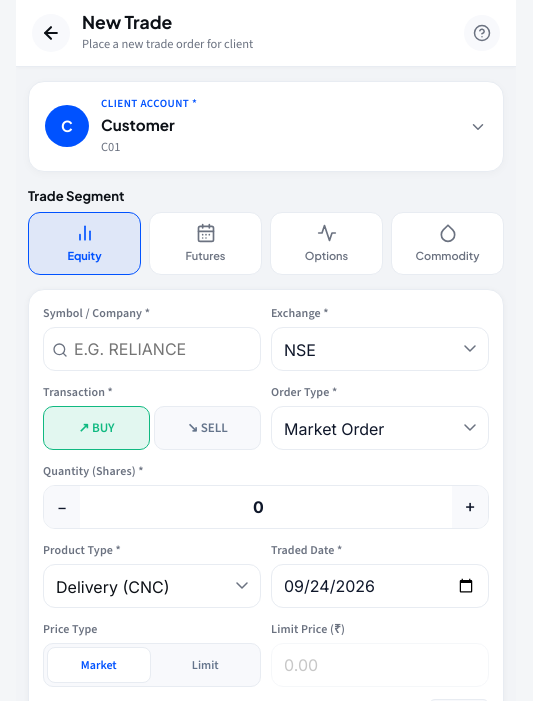
invalid quantity 1.5 never submits
The width and height of the screenshot is (533, 701).
Replace the text in the number field named "Quantity" with "1.5" at (266, 507), box [80,494,452,520]
(page scrolled)
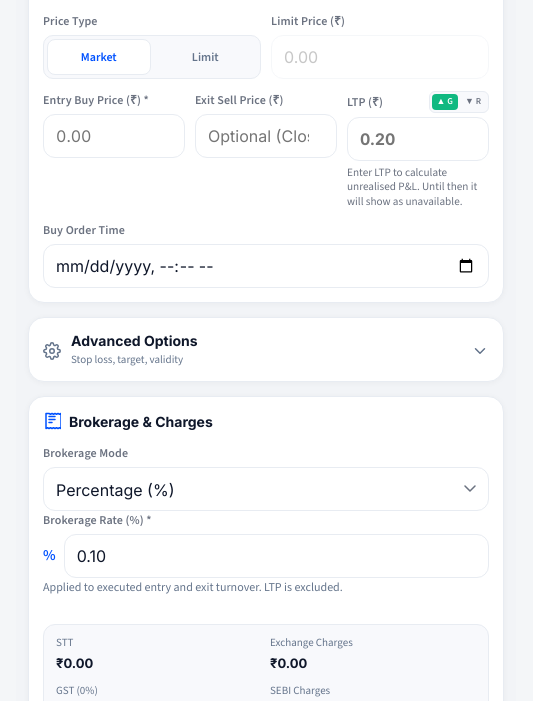
Submit the form named "Quantity"
(page scrolled)
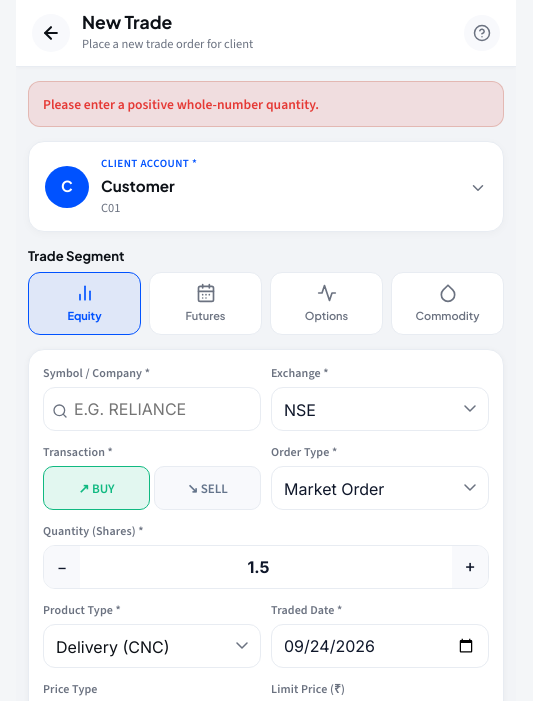
Now the text "Please enter a positive whole-number quantity." is shown, box [28,81,504,127]
